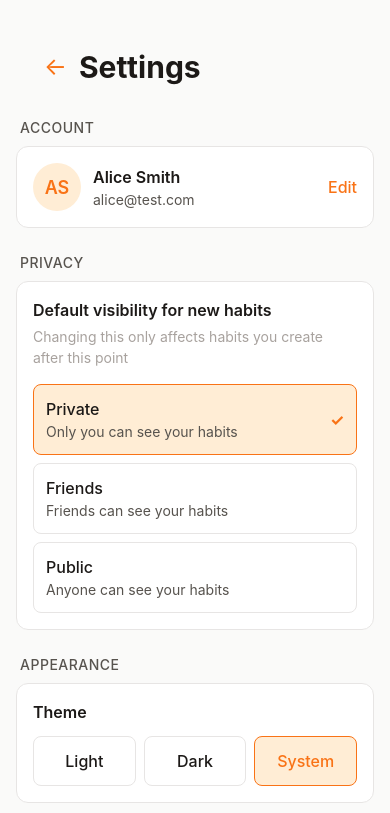
Test: SettingsScreen — Privacy Section › reverts to previous value when update fails
The width and height of the screenshot is (390, 813).
Expected: the text "✓" is shown, left=330, top=408, right=344, bottom=432
Click the radio button with test id "visibility-option-public": click(195, 578) left=33, top=542, right=357, bottom=613
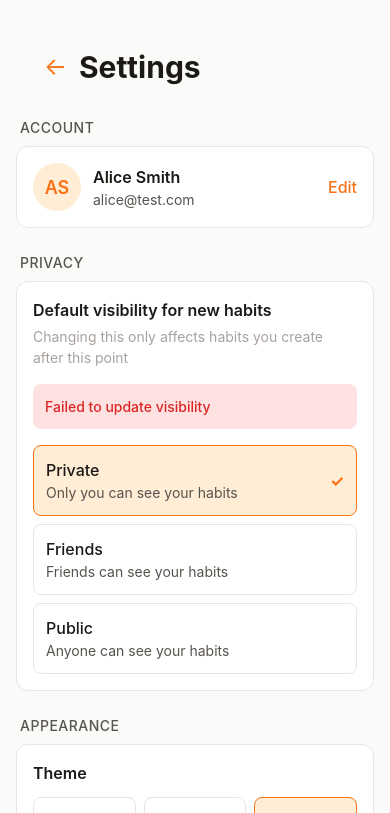
Expected: the text "✓" is shown, left=330, top=468, right=344, bottom=492
Expected: the message "Failed to update visibility" is shown, left=33, top=384, right=357, bottom=429
